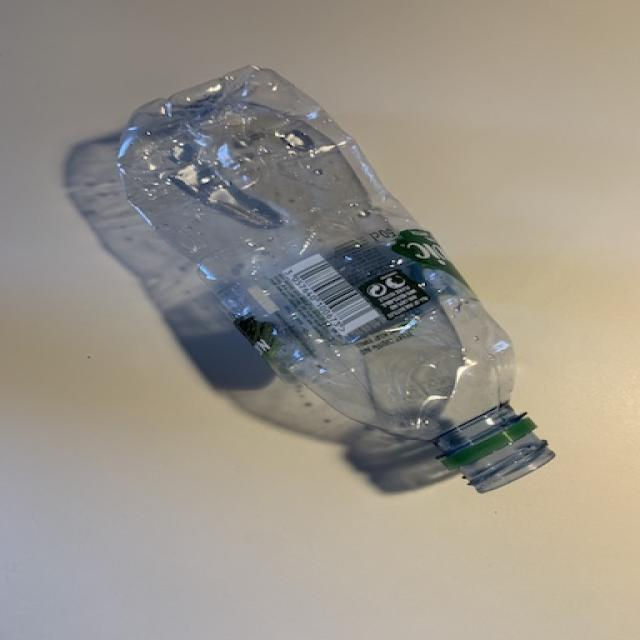litter: (118, 64, 557, 498)
